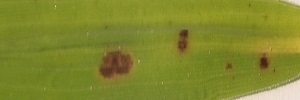RiceBrownSpot: (91, 45, 140, 84), (224, 49, 277, 80), (174, 26, 193, 56)
